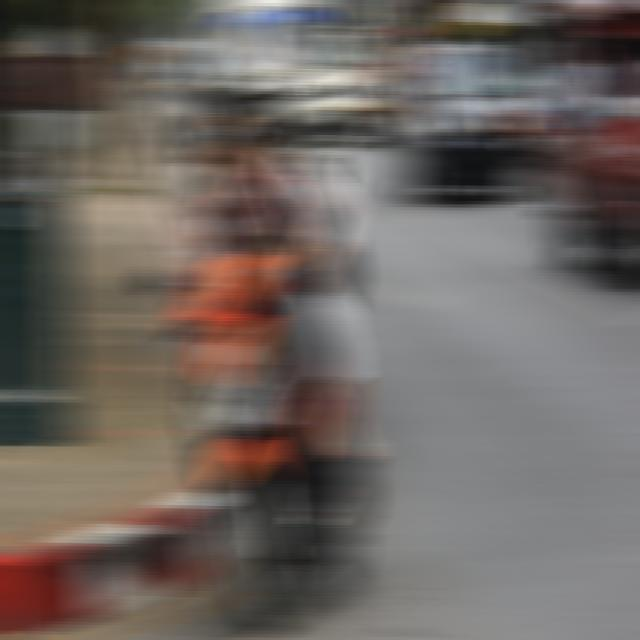Without Helmet: (194, 75, 268, 185)
